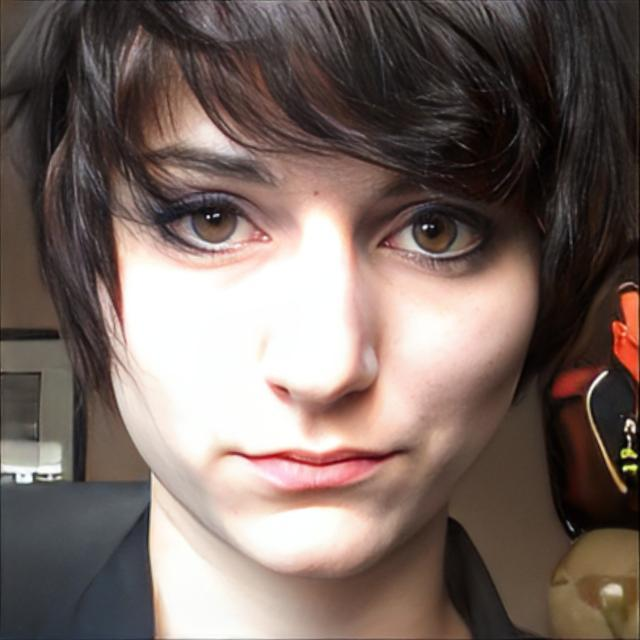content: (105, 6, 550, 576)
